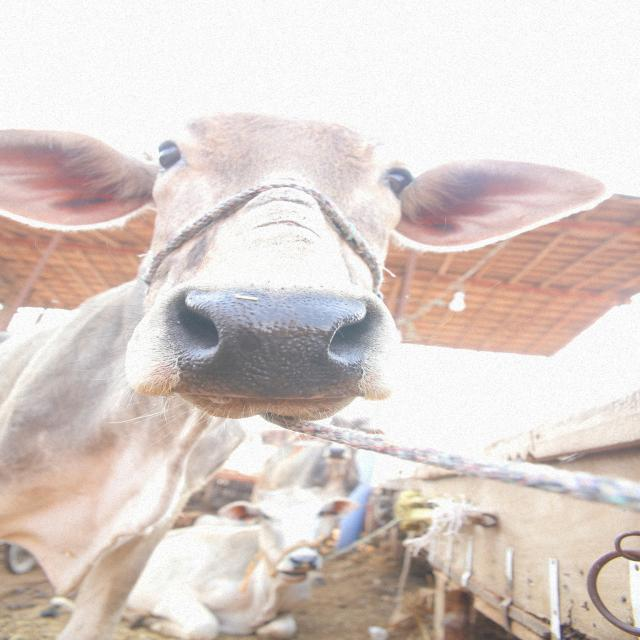muzzles: (156, 280, 386, 404)
